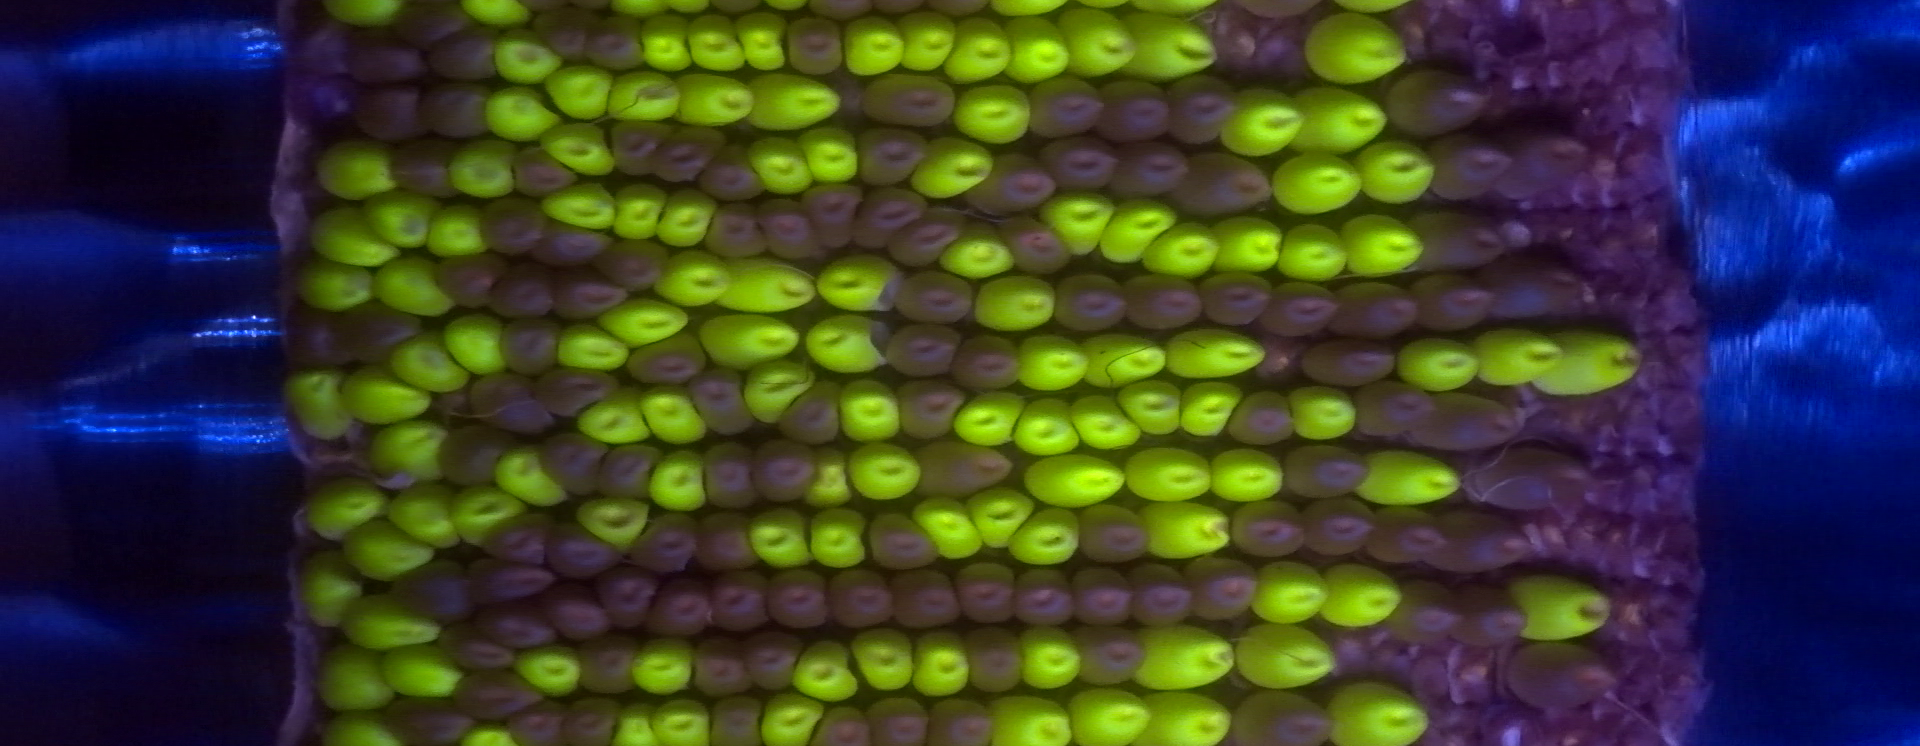fluorescent: (1300, 13, 1404, 83), (1286, 85, 1387, 154), (1506, 575, 1610, 641), (1540, 328, 1642, 396), (1320, 682, 1431, 744), (1239, 624, 1336, 688), (1131, 628, 1236, 688), (718, 255, 817, 312), (1025, 454, 1122, 512), (1357, 450, 1456, 505), (1122, 20, 1218, 76), (344, 363, 432, 423), (1096, 198, 1176, 265), (1247, 559, 1325, 625), (697, 312, 800, 363), (318, 138, 400, 200), (1318, 562, 1400, 624), (342, 521, 435, 575), (373, 254, 451, 318), (1223, 89, 1302, 153), (1167, 330, 1264, 381), (309, 205, 389, 265), (1469, 332, 1554, 388), (288, 365, 351, 440), (1140, 501, 1229, 554), (1062, 9, 1130, 77), (320, 641, 392, 706), (602, 293, 683, 350), (909, 138, 992, 194), (747, 76, 834, 129), (1275, 156, 1356, 212), (380, 647, 464, 701), (1346, 213, 1418, 276), (1040, 190, 1109, 254), (910, 496, 980, 560), (1138, 697, 1232, 744), (1124, 448, 1211, 499), (984, 695, 1071, 745), (369, 425, 451, 478), (389, 483, 459, 544), (1141, 220, 1216, 277), (291, 258, 372, 310), (1007, 507, 1080, 563), (804, 318, 887, 369), (954, 85, 1029, 140), (940, 223, 1015, 278), (454, 483, 523, 543), (394, 332, 465, 390), (448, 138, 516, 198), (1288, 385, 1357, 443), (541, 121, 611, 179), (1400, 338, 1476, 391), (973, 277, 1053, 327), (944, 16, 1007, 80), (1067, 692, 1144, 744), (497, 450, 564, 508), (791, 642, 861, 698), (489, 85, 561, 138), (1212, 216, 1280, 273), (744, 137, 813, 194), (306, 555, 362, 624), (342, 601, 437, 642), (672, 73, 751, 122), (1002, 21, 1064, 82), (1020, 331, 1081, 393), (847, 443, 921, 495), (913, 630, 969, 698), (744, 367, 814, 421), (1076, 394, 1142, 451), (640, 386, 707, 442), (309, 481, 382, 532), (969, 488, 1030, 548), (955, 391, 1026, 442), (816, 262, 902, 304), (853, 630, 913, 690), (838, 383, 899, 442), (560, 323, 629, 375), (1080, 341, 1157, 387), (577, 394, 654, 441), (1022, 627, 1079, 691), (756, 688, 820, 744), (373, 190, 432, 250), (444, 314, 503, 374), (1362, 148, 1427, 202), (1280, 225, 1344, 278), (1211, 452, 1282, 500), (845, 17, 902, 76), (493, 29, 558, 81), (661, 254, 727, 304), (426, 202, 484, 260), (579, 499, 648, 546), (1016, 401, 1081, 451), (653, 190, 709, 247), (898, 11, 951, 71), (651, 452, 708, 508), (733, 13, 786, 73), (1183, 380, 1240, 434), (814, 510, 868, 567), (542, 186, 615, 229), (634, 20, 691, 73), (751, 511, 808, 563), (611, 183, 662, 240), (542, 70, 605, 116), (689, 12, 742, 67), (802, 131, 857, 184), (800, 443, 849, 502), (519, 647, 580, 693), (609, 75, 675, 118), (1124, 382, 1180, 432), (636, 639, 693, 688), (320, 715, 400, 744), (653, 704, 705, 744), (320, 1, 405, 22), (459, 2, 531, 27), (613, 707, 659, 744), (1135, 1, 1216, 15), (465, 723, 516, 744), (989, 1, 1065, 15), (1332, 1, 1411, 12), (612, 2, 669, 13), (1078, 1, 1131, 9)
nonfluorescent: (1479, 445, 1597, 513), (1515, 637, 1621, 710), (1389, 70, 1498, 132), (1491, 256, 1587, 326), (1418, 206, 1512, 273), (1499, 126, 1586, 198), (1436, 508, 1534, 572), (1427, 386, 1518, 453), (1231, 687, 1333, 746), (1177, 156, 1273, 214), (915, 441, 1016, 496), (958, 621, 1033, 695), (1431, 137, 1507, 206), (1298, 339, 1403, 388), (1416, 269, 1491, 336), (336, 303, 414, 366), (1456, 583, 1526, 654), (1337, 281, 1419, 341), (1167, 76, 1238, 145), (857, 71, 956, 120), (1056, 269, 1129, 336), (1229, 497, 1308, 559), (1120, 274, 1202, 332), (880, 323, 959, 383), (469, 372, 547, 432), (1308, 499, 1380, 563), (1398, 577, 1462, 650), (1198, 273, 1276, 332), (1079, 503, 1153, 563), (1104, 77, 1176, 140), (827, 566, 898, 628), (1264, 284, 1338, 343), (853, 125, 924, 185), (1116, 140, 1188, 198), (896, 267, 975, 321), (1376, 508, 1444, 571), (1195, 556, 1262, 619), (1357, 383, 1430, 440), (389, 697, 474, 746), (977, 159, 1059, 209), (1033, 80, 1103, 138), (756, 195, 812, 267), (866, 510, 931, 572), (536, 434, 598, 500), (595, 439, 662, 499), (1016, 563, 1078, 628), (636, 510, 700, 571), (1080, 627, 1146, 687), (422, 85, 493, 140), (355, 85, 431, 136), (1131, 571, 1204, 625), (400, 565, 467, 624), (279, 300, 334, 370), (288, 81, 362, 132), (767, 573, 829, 635), (1287, 443, 1363, 494), (351, 34, 426, 85), (999, 219, 1074, 269), (691, 641, 757, 697), (497, 317, 564, 372), (776, 383, 838, 443), (754, 445, 813, 507), (696, 366, 751, 432), (629, 341, 705, 388), (887, 575, 960, 624), (582, 636, 643, 695), (429, 255, 497, 306), (873, 688, 934, 746), (955, 332, 1018, 388), (389, 138, 453, 194), (602, 118, 658, 181), (699, 443, 754, 507), (598, 566, 658, 624), (858, 184, 909, 252), (555, 274, 627, 321), (656, 127, 714, 185), (482, 195, 542, 250), (584, 13, 640, 71), (962, 562, 1019, 620), (432, 24, 491, 80), (1076, 566, 1138, 619), (549, 528, 613, 577), (293, 21, 351, 75), (1231, 390, 1291, 442), (449, 423, 500, 485), (456, 677, 533, 718), (747, 628, 802, 685), (1053, 142, 1119, 189), (932, 699, 998, 746), (534, 7, 591, 60), (900, 208, 953, 266), (512, 693, 571, 745), (534, 370, 613, 408), (786, 21, 841, 75), (898, 379, 951, 434), (702, 510, 746, 576), (658, 582, 709, 638), (718, 575, 767, 633), (443, 632, 514, 673), (702, 209, 767, 254), (489, 274, 555, 317), (710, 697, 768, 746), (596, 240, 658, 285), (489, 513, 555, 555), (399, 2, 471, 40), (547, 595, 613, 636), (535, 225, 602, 265), (564, 695, 615, 746), (470, 562, 547, 595), (820, 178, 855, 251), (816, 699, 869, 746), (486, 606, 542, 650), (709, 145, 756, 196), (511, 156, 567, 197)
